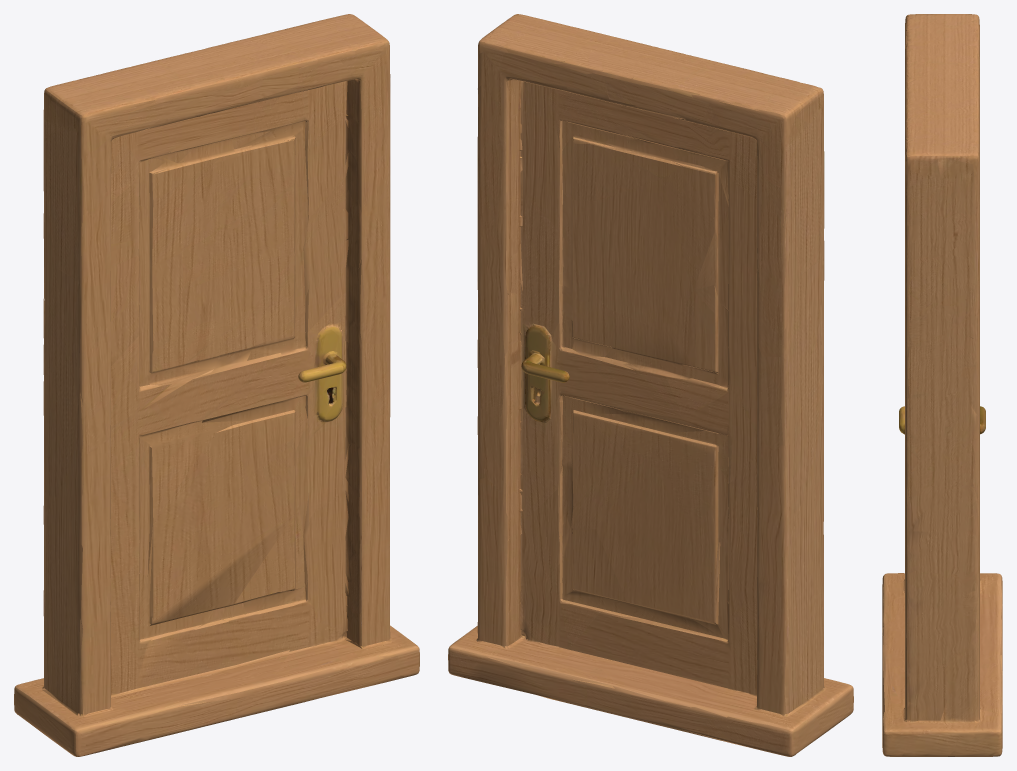
Rendered from door.glb.
The picture shows the model from 3 angles, left to right: view 1: azimuth 30°, elevation 25°; view 2: azimuth 150°, elevation 25°; view 3: azimuth 270°, elevation 25°; orthographic projection. The views are drawn at different scales.
Bounding box in the file's own units: 1.09 × 1.9 × 0.3485.
Materials: 1 (1 with a texture image).
